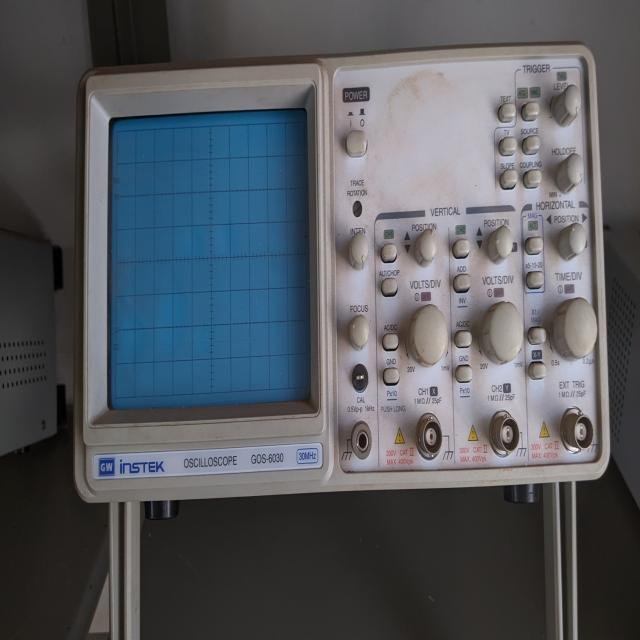Cathode Ray Oscilloscope: (61, 36, 611, 640)
